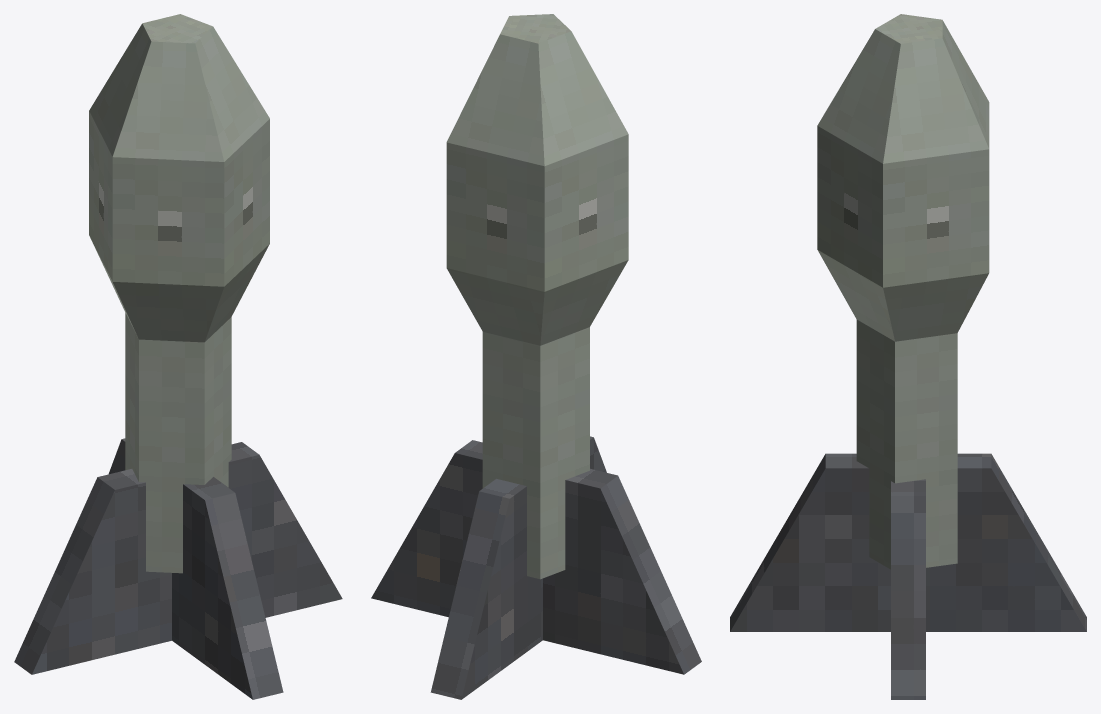
The model's file is rocket.glb.
3 views of the same model, side by side, from view 1: azimuth 30°, elevation 25°; view 2: azimuth 150°, elevation 25°; view 3: azimuth 270°, elevation 25° (orthographic).
Visible parts, largest first — view 1: Rocket; view 2: Rocket; view 3: Rocket.
Boxes of the visible parts, bbox=[...] form: Rocket: bbox=[14, 14, 342, 699]; Rocket: bbox=[371, 14, 701, 699]; Rocket: bbox=[730, 14, 1086, 699].
Size of the model in its own units: 0.5255 by 0.9677 by 0.5255.
2 materials, 2 textured.
